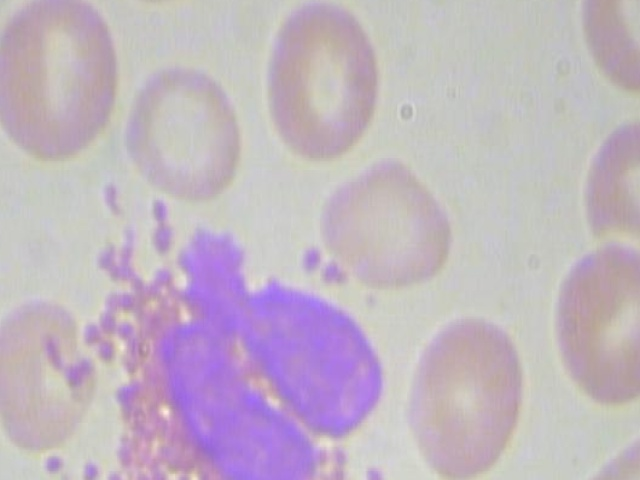RBC: (390, 302, 540, 480), (0, 0, 132, 165), (311, 149, 458, 295), (261, 0, 385, 172), (263, 0, 387, 169), (0, 281, 107, 450), (122, 60, 244, 207), (543, 232, 640, 416), (94, 0, 217, 2)
WBC: (32, 170, 398, 480)
